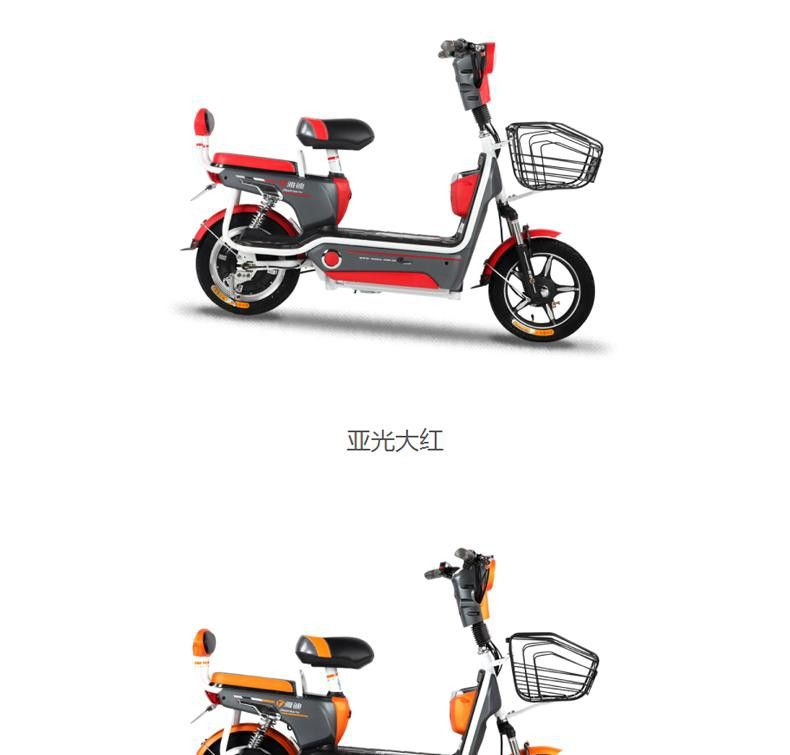non-vehicle: (179, 36, 607, 340), (170, 547, 608, 752)
